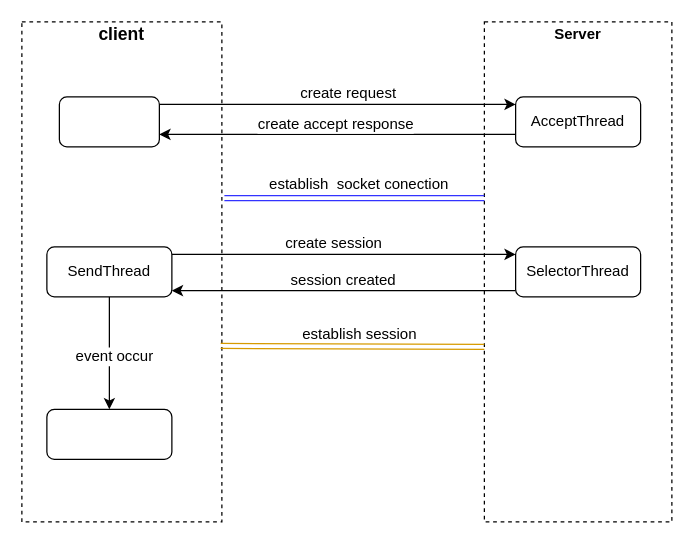
Image size: 694x544. Some labels were removed from this diagram. The box of each missing label's shape, as (x1, y1, x2, y2) in pixels:
create socket connection: (58, 96, 159, 147)
EventThread: (46, 408, 172, 459)
